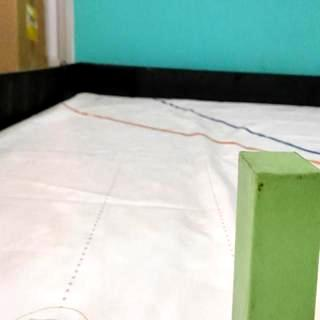greenbox: (232, 148, 320, 320)
